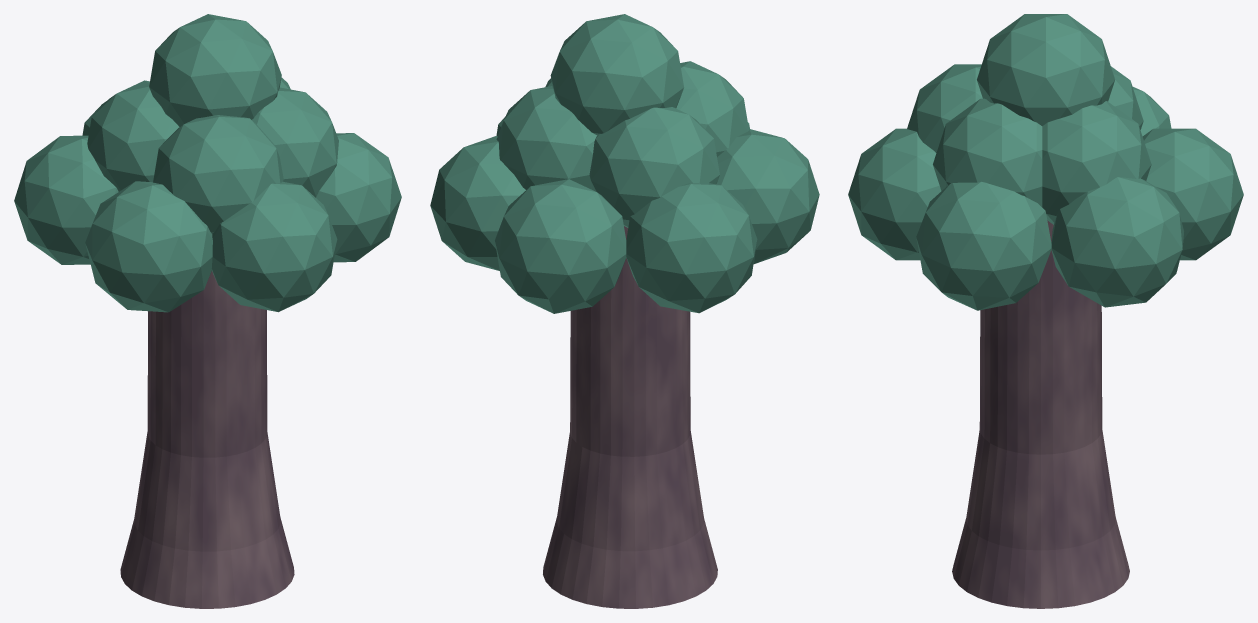
File: tree1.gltf
3 views of the same model, side by side, from view 1: azimuth 30°, elevation 25°; view 2: azimuth 150°, elevation 25°; view 3: azimuth 270°, elevation 25° (orthographic). The views are drawn at different scales.
Parts seen in each view (by area): view 1: Leaves.002, trunk.004; view 2: Leaves.002, trunk.004; view 3: Leaves.002, trunk.004.
Part boxes in pixels (x1,y1,x2,y2): Leaves.002: (14,14,401,312); trunk.004: (120,271,294,608); Leaves.002: (430,14,819,313); trunk.004: (543,226,717,608); Leaves.002: (848,14,1243,310); trunk.004: (952,220,1129,608).
Size of the model in its own units: 6.03 by 10.25 by 6.57.
Materials: 2 (1 with a texture image).
